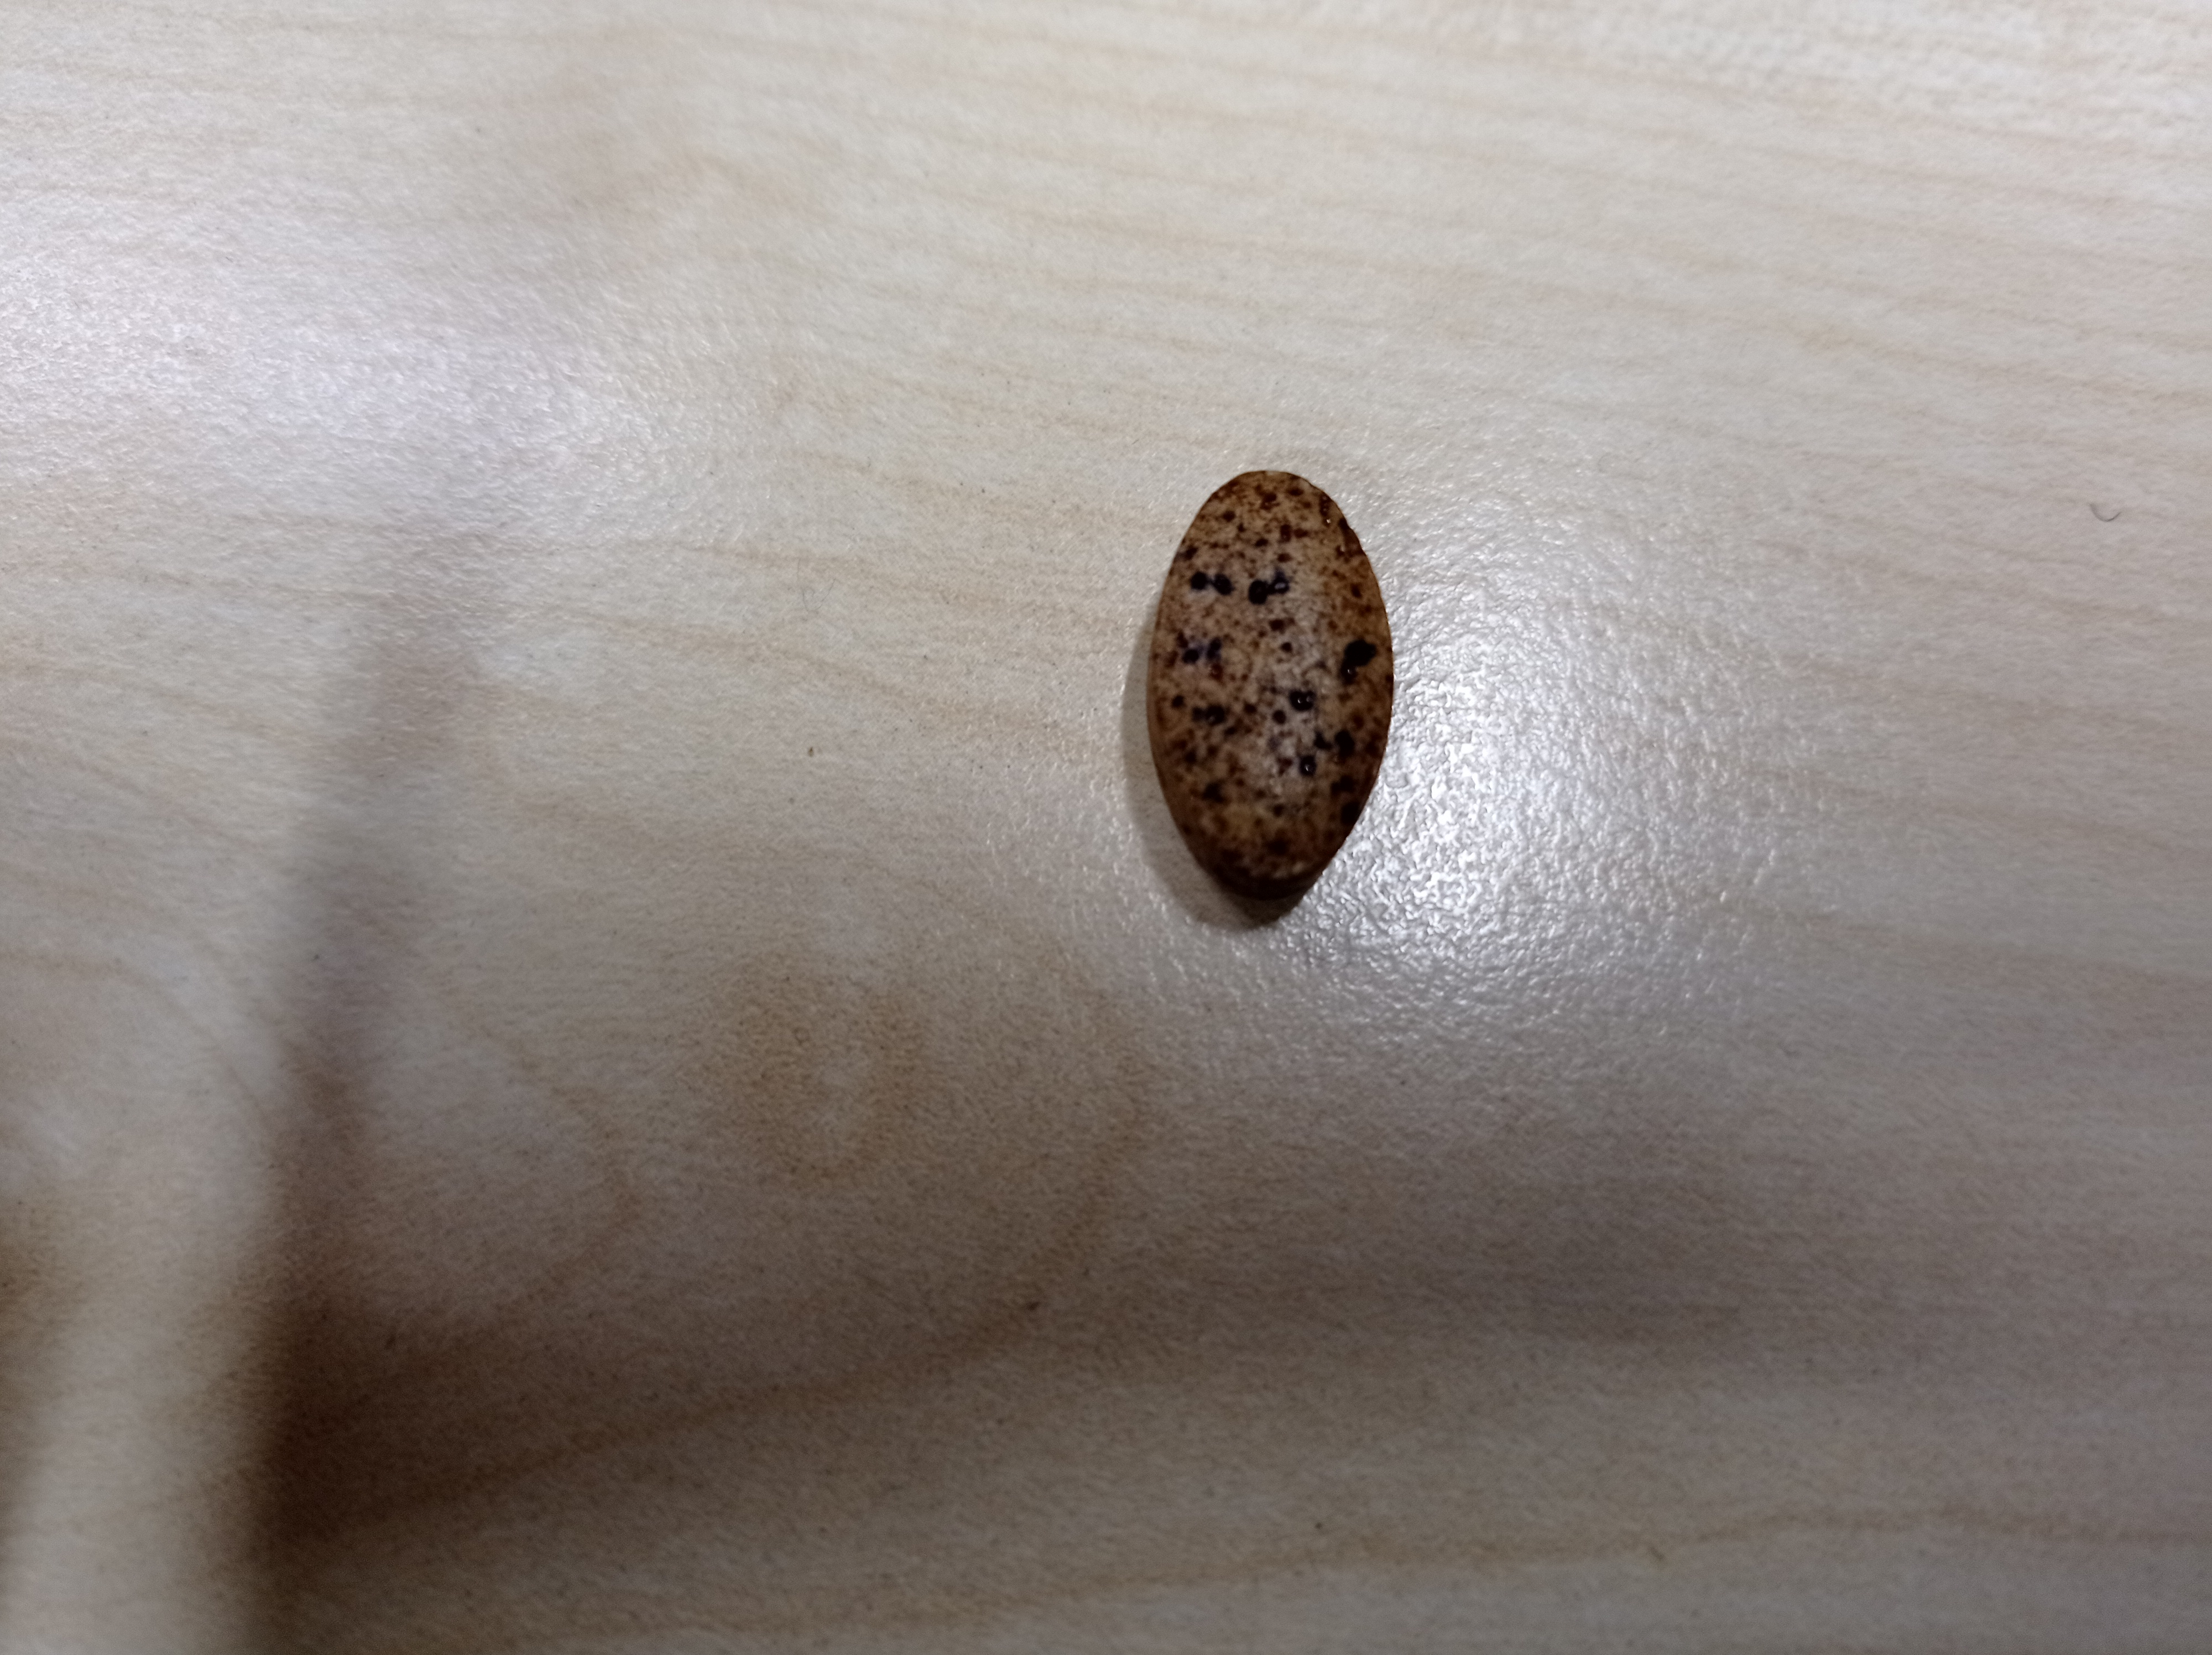brown_medicine: (1143, 468, 1397, 914)
